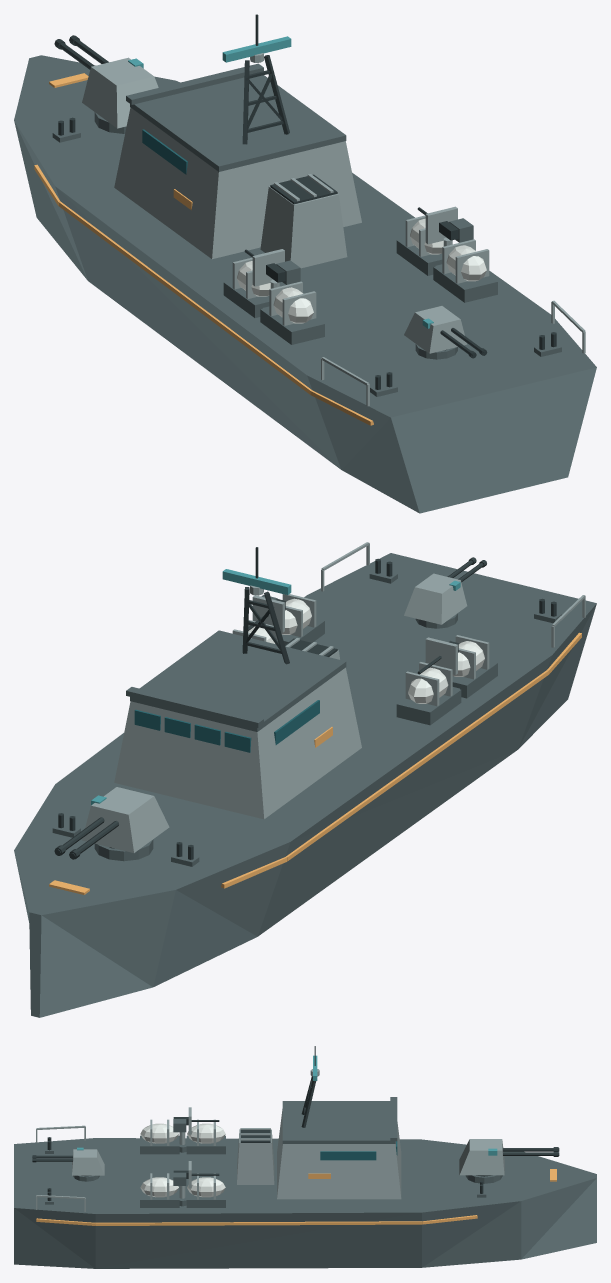
Rendered from ESC_PB_T0.fbx.
The picture shows the model from 3 angles, top to bottom: view 1: azimuth 30°, elevation 25°; view 2: azimuth 150°, elevation 25°; view 3: azimuth 270°, elevation 25°; orthographic projection. The views are drawn at different scales.
Parts seen in each view (by area): view 1: ContinuousHull, Deckhouse, Roof, FunnelEnclosure, PrimaryGunCupola, AftGunCupola, RoleHullStripe-1_1, BridgeBrow, RaftCradle.001, RaftCradle.003, ExhaustGrille, CapsuleLifeRaft.003 (+7 smaller); view 2: ContinuousHull, Deckhouse, Roof, PrimaryGunCupola, AftGunCupola, RoleHullStripe-1_1, BridgeBrow, RaftCradle, MGShield, CapsuleLifeRaft, NavigationRadar, RaftCradle.001 (+2 smaller); view 3: ContinuousHull, Deckhouse, Roof, FunnelEnclosure, PrimaryGunCupola, RoleHullStripe1_1, AftGunCupola, BridgeSideGlass1, CapsuleLifeRaft.001, CapsuleLifeRaft.003, RaftCradle.001, RaftCradle (+6 smaller).
Part boxes in pixels (x1,y1,x2,y2): ContinuousHull: [14, 55, 596, 513]; Deckhouse: [114, 107, 361, 259]; Roof: [130, 75, 346, 171]; FunnelEnclosure: [260, 186, 347, 268]; PrimaryGunCupola: [82, 57, 158, 128]; AftGunCupola: [404, 306, 467, 353]; RoleHullStripe-1_1: [58, 201, 312, 394]; BridgeBrow: [126, 63, 263, 104]; RaftCradle.001: [260, 307, 324, 344]; RaftCradle.003: [433, 265, 497, 302]; ExhaustGrille: [270, 174, 337, 204]; CapsuleLifeRaft.003: [446, 245, 486, 281]; ContinuousHull: [14, 553, 596, 1017]; Deckhouse: [114, 667, 361, 819]; Roof: [130, 630, 346, 731]; PrimaryGunCupola: [82, 787, 169, 852]; AftGunCupola: [404, 573, 467, 624]; RoleHullStripe-1_1: [286, 670, 548, 861]; BridgeBrow: [126, 687, 263, 727]; RaftCradle: [396, 687, 461, 725]; MGShield: [425, 637, 457, 674]; CapsuleLifeRaft: [408, 667, 448, 703]; NavigationRadar: [222, 569, 291, 594]; RaftCradle.001: [452, 661, 497, 698]; ContinuousHull: [14, 1138, 596, 1268]; Deckhouse: [277, 1109, 401, 1199]; Roof: [282, 1101, 395, 1143]; FunnelEnclosure: [237, 1129, 274, 1184]; PrimaryGunCupola: [459, 1139, 504, 1175]; RoleHullStripe1_1: [95, 1221, 421, 1225]; AftGunCupola: [72, 1149, 104, 1175]; BridgeSideGlass1: [320, 1151, 376, 1160]; CapsuleLifeRaft.001: [140, 1123, 178, 1143]; CapsuleLifeRaft.003: [140, 1177, 178, 1197]; RaftCradle.001: [140, 1135, 179, 1154]; RaftCradle: [186, 1135, 225, 1154].
Size of the model in its own units: 278 by 333 by 900.
